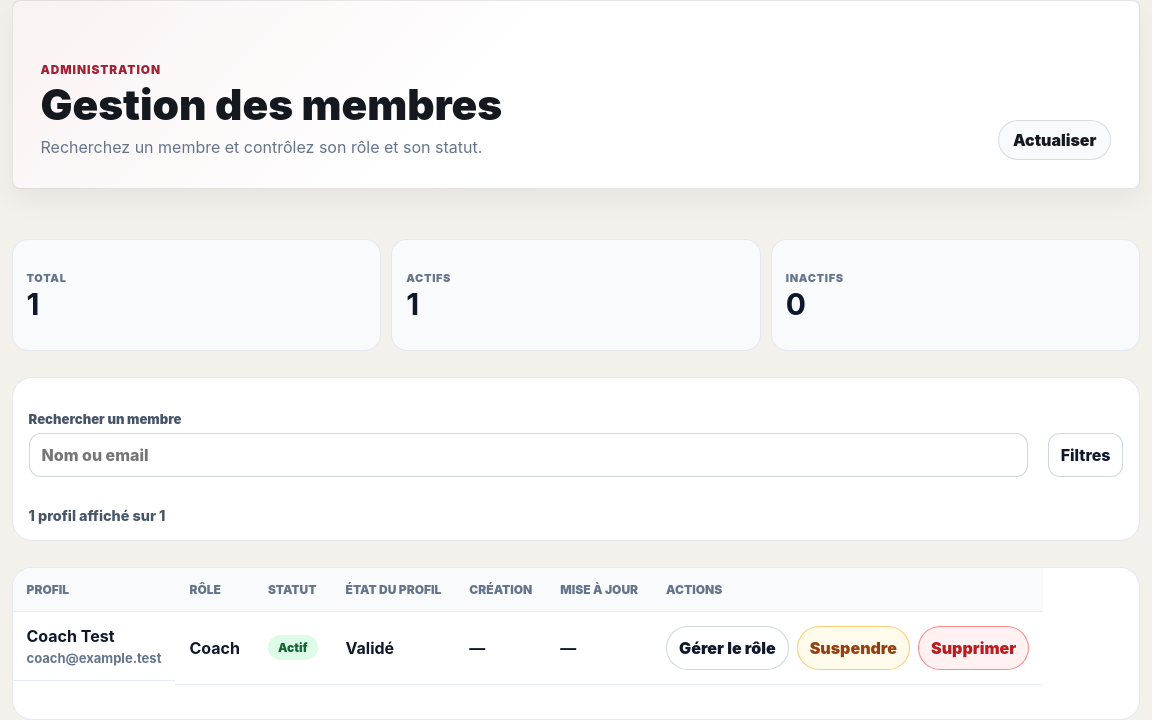
Test: rôles et statuts des membres › bascule vers la suspension recommandée sans lancer de suppression
The width and height of the screenshot is (1152, 720).
Click the button "Supprimer" at (974, 648), box [918, 626, 1029, 670]
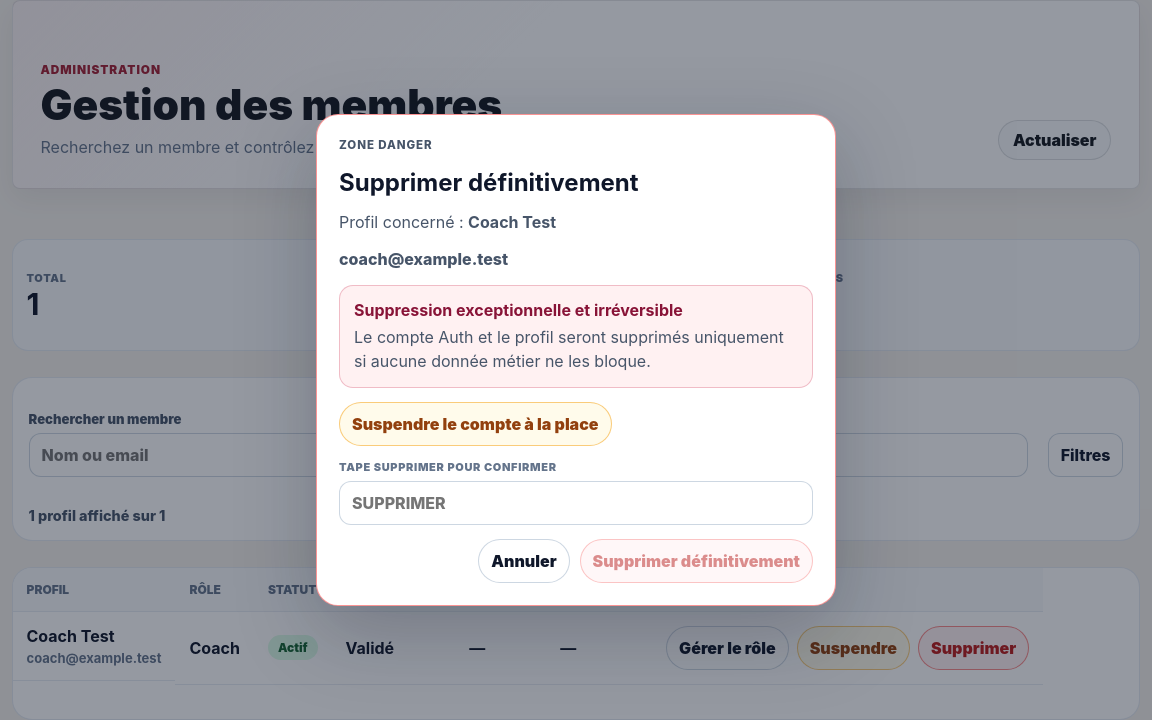
Click the button "Suspendre le compte à la place" at (475, 424), box [339, 402, 612, 446]
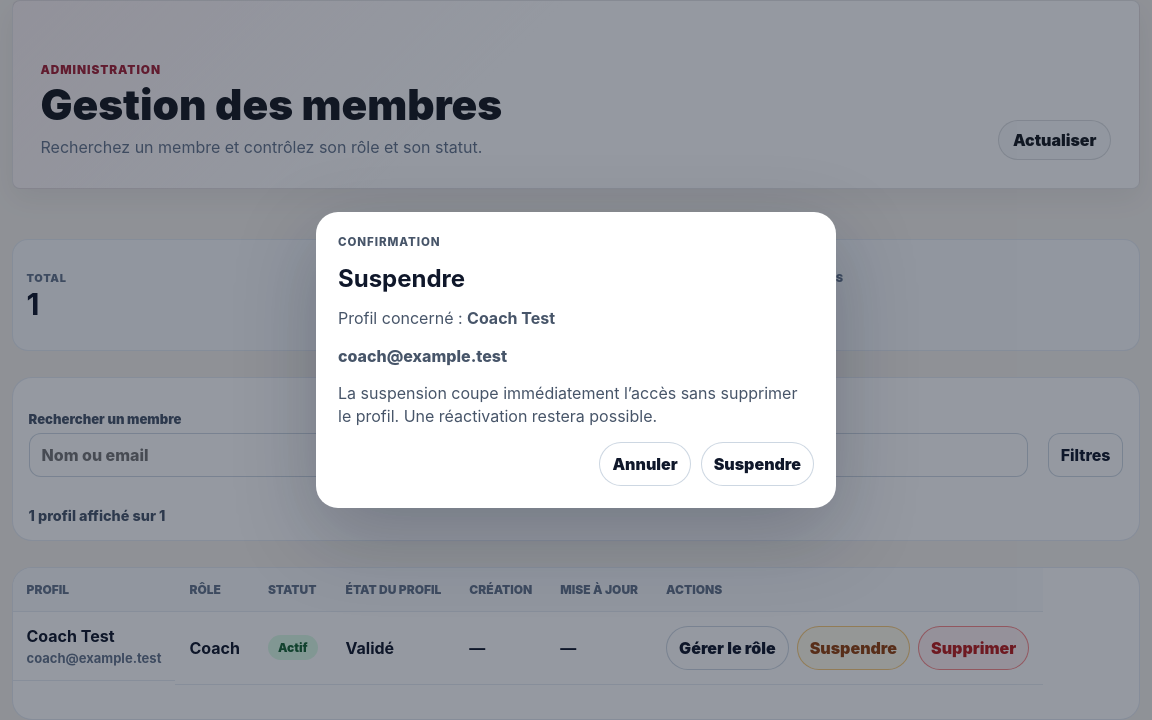
Expected: the dialog named "Suspendre le profil" is shown, [316, 212, 836, 508]
